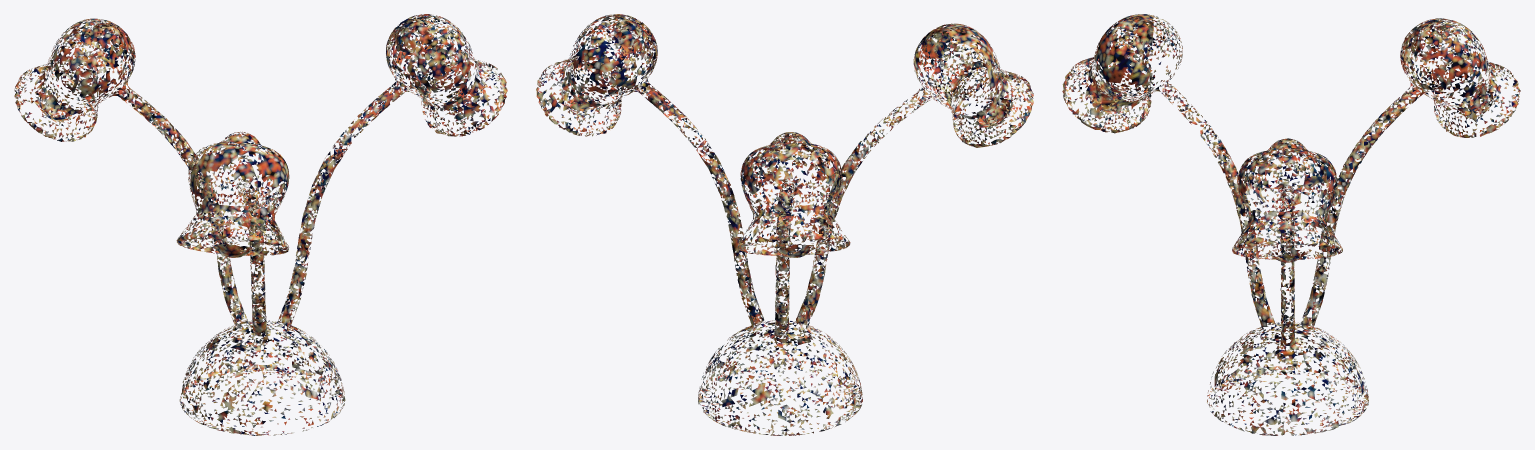
Rendered from lamp_final800.obj.
3 views of the same model, side by side, from view 1: azimuth 30°, elevation 25°; view 2: azimuth 150°, elevation 25°; view 3: azimuth 270°, elevation 25° (orthographic).
Bounding box in the file's own units: 1.59 × 1.32 × 1.62.
